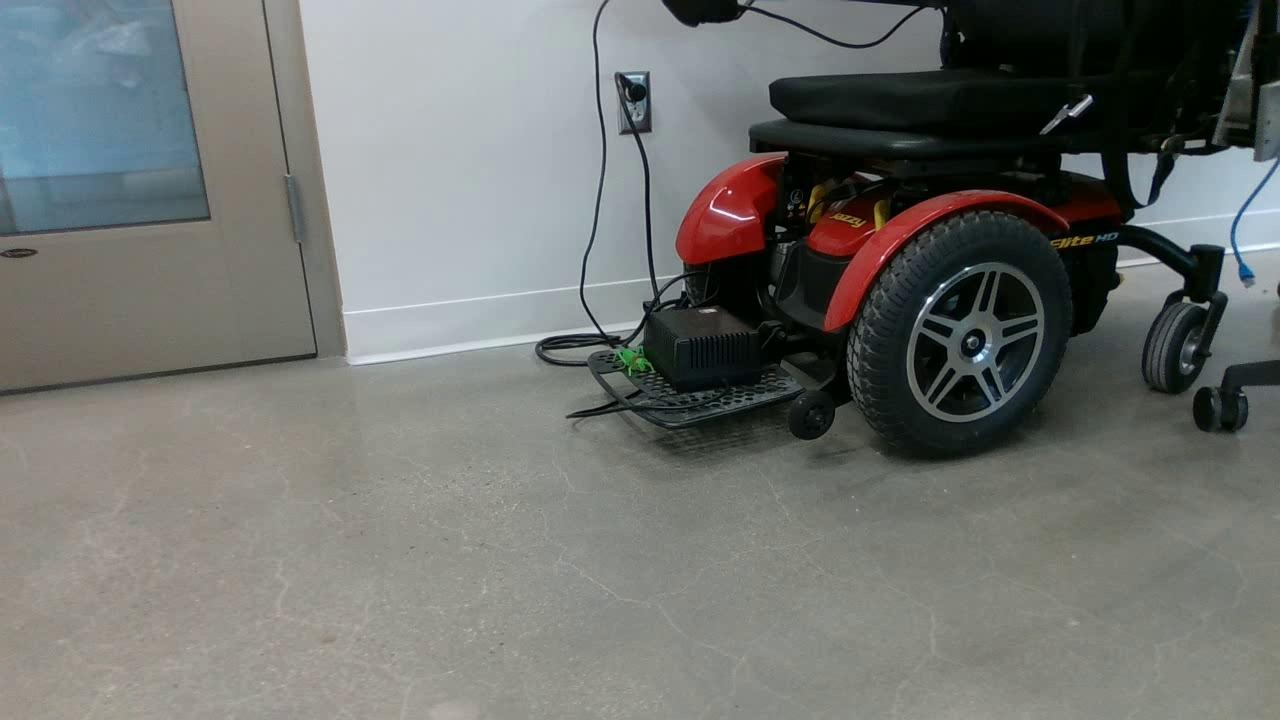grasshopper: (612, 349, 656, 376)
